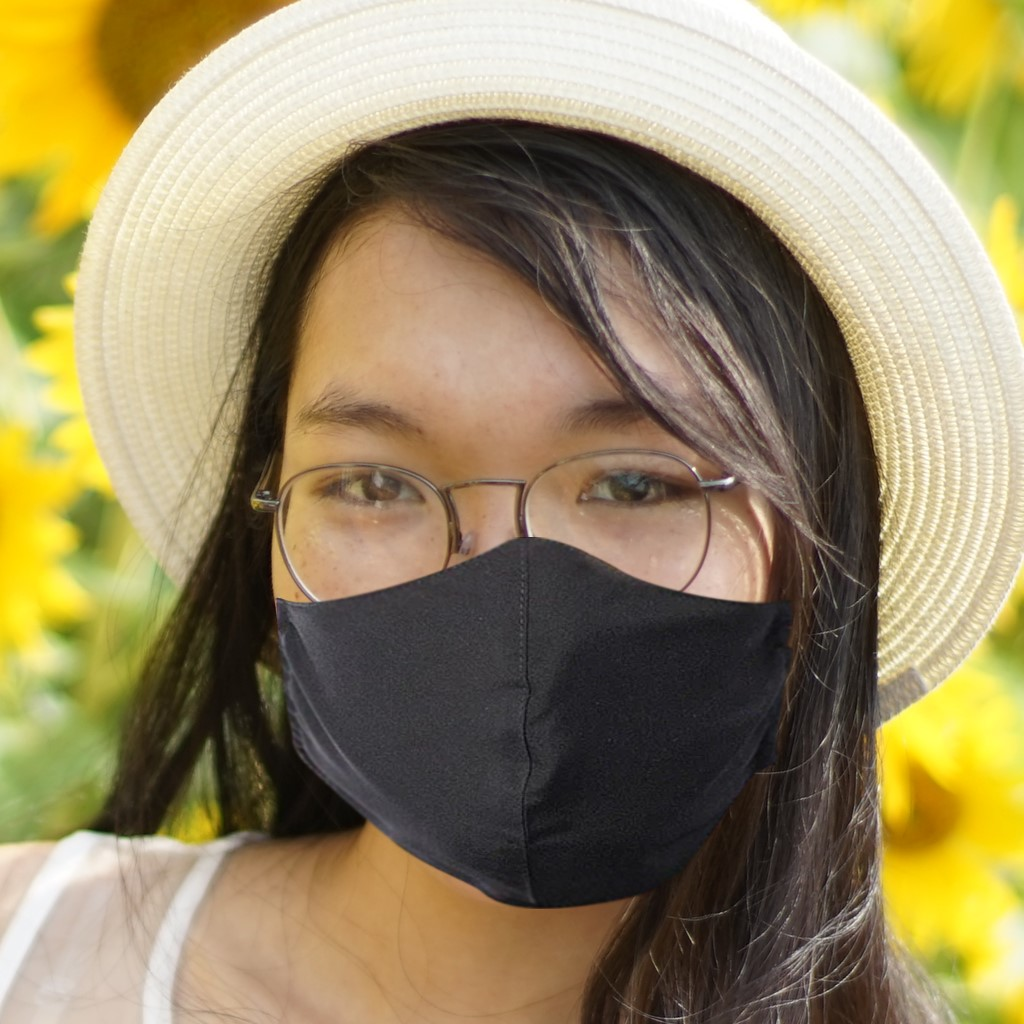con_mascara: (256, 162, 847, 935)
